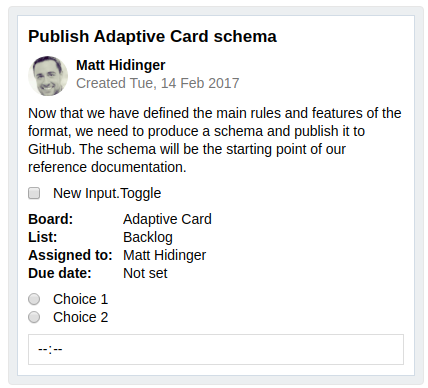checkbox: (23, 181, 169, 209)
image: (24, 55, 73, 98)
radio_button: (23, 286, 118, 307), (23, 306, 119, 326)
textbox: (26, 108, 404, 174), (75, 55, 255, 97), (24, 26, 285, 52), (26, 211, 221, 234), (22, 262, 185, 284), (27, 246, 213, 263), (27, 230, 179, 249)
